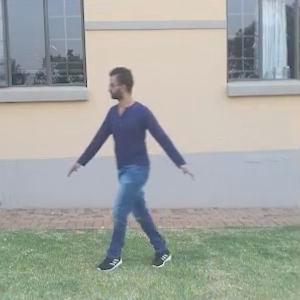land: (69, 77, 191, 238)
